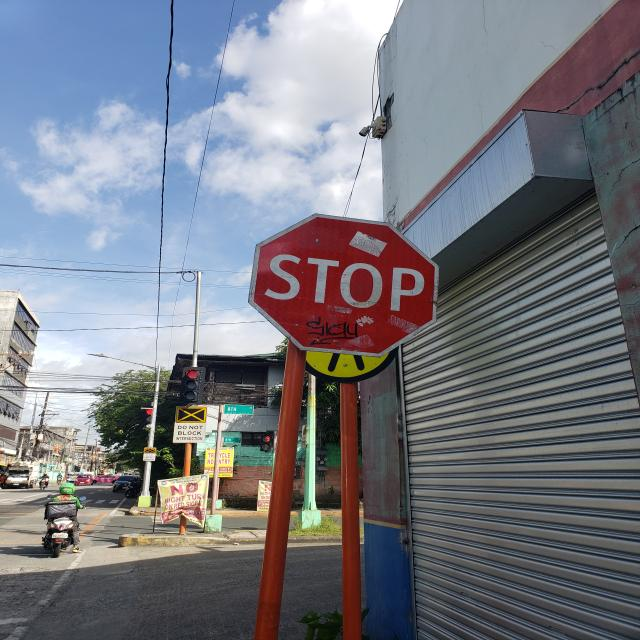stop-sign: (248, 212, 440, 358)
